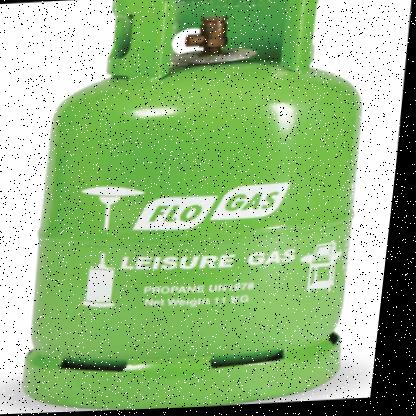gas-tank: (7, 0, 403, 414)
